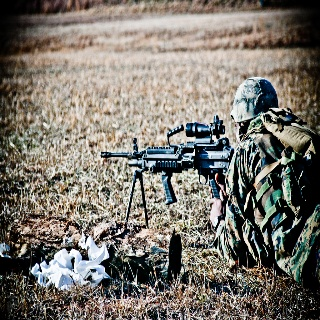rifle: (99, 114, 234, 205)
